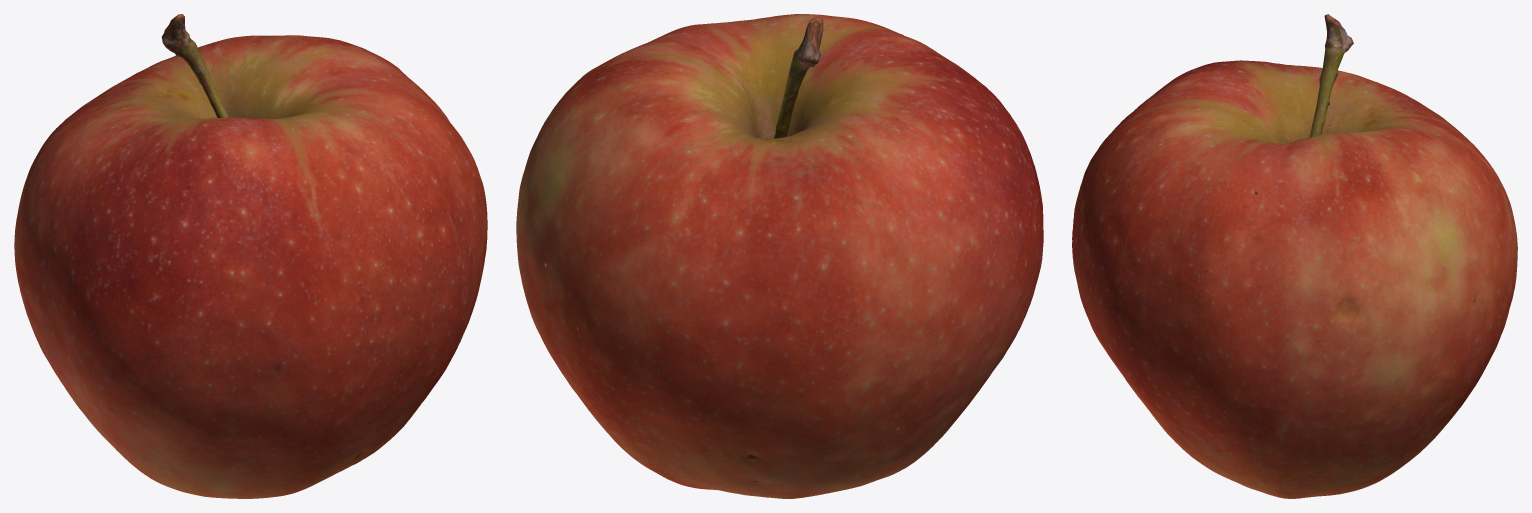
The model's file is 3DApple001_HQ-1K-JPG.obj.
The picture shows the model from 3 angles, left to right: view 1: azimuth 30°, elevation 25°; view 2: azimuth 150°, elevation 25°; view 3: azimuth 270°, elevation 25°; orthographic projection. The views are drawn at different scales.
Visible parts, largest first — view 1: 3DApple001_HQ-1K-JPG; view 2: 3DApple001_HQ-1K-JPG; view 3: 3DApple001_HQ-1K-JPG.
Boxes of the visible parts, x1=… form: 3DApple001_HQ-1K-JPG: x1=14, y1=14, x2=487, y2=498; 3DApple001_HQ-1K-JPG: x1=516, y1=14, x2=1043, y2=498; 3DApple001_HQ-1K-JPG: x1=1072, y1=14, x2=1517, y2=498.
Size of the model in its own units: 0.1157 by 0.1199 by 0.1152.
Materials: 1 (1 with a texture image).
